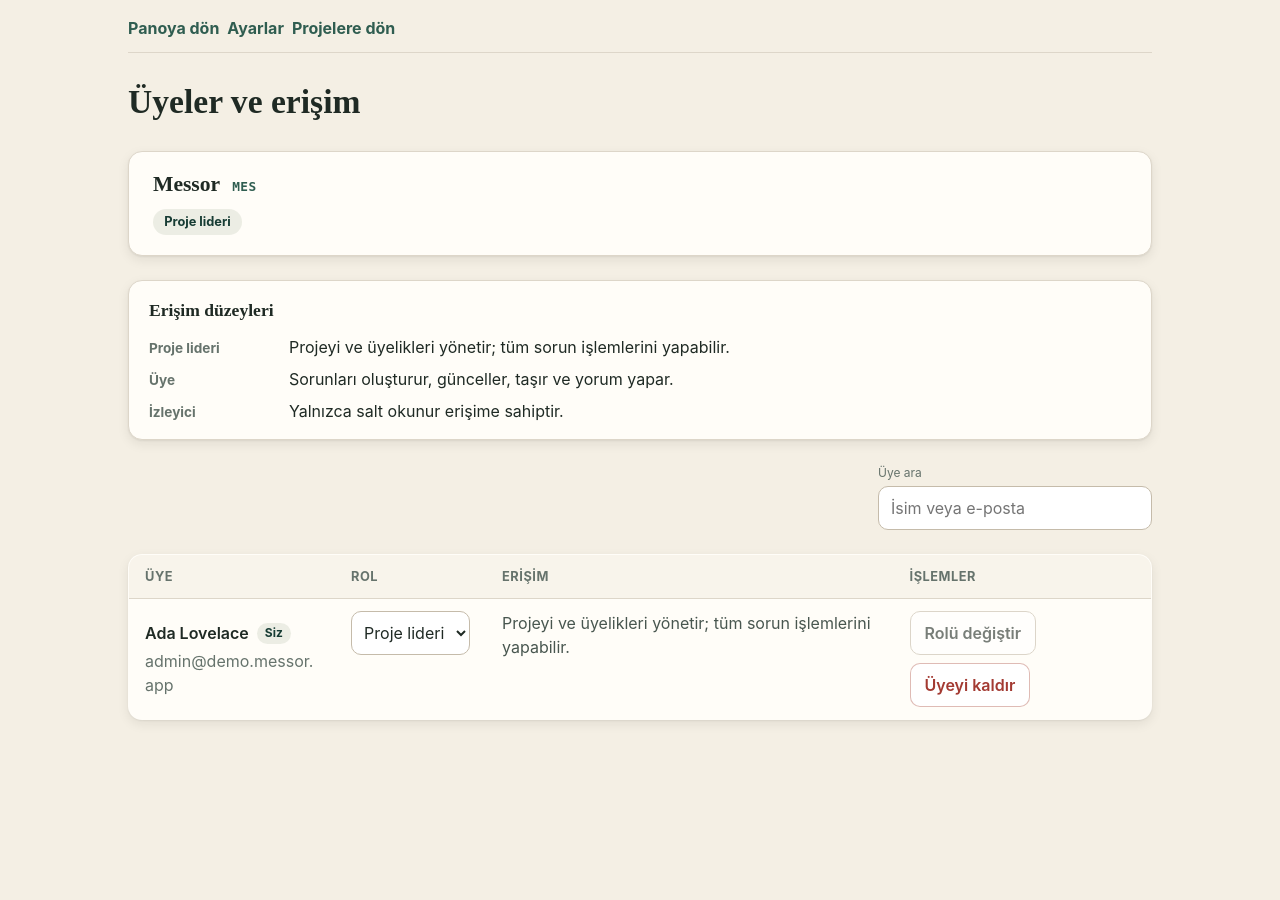
it: MembersPage › role change › shows a client-owned message for LAST_PROJECT_LEAD_REQUIRED
Expected: the table named "Proje üyeleri" is shown, [128,554,1152,720]
Step 1. Select "Üye" in the dropdown named "Ada Lovelace rolü" → (411, 633), box [351,611,470,655]
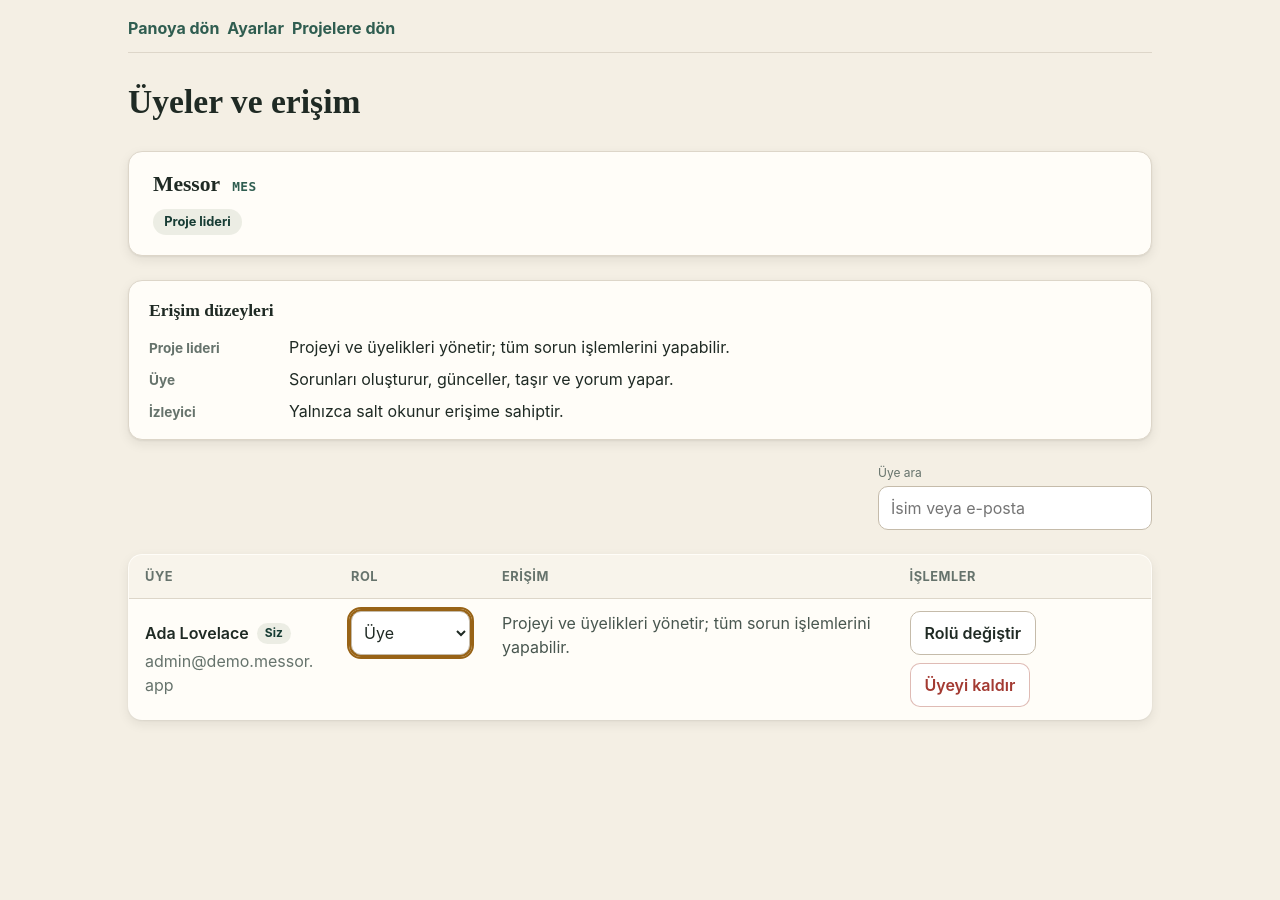
Step 2. Click the button with aria-label "Ada Lovelace rolünü değiştir" → (973, 633), box [910,611,1036,655]
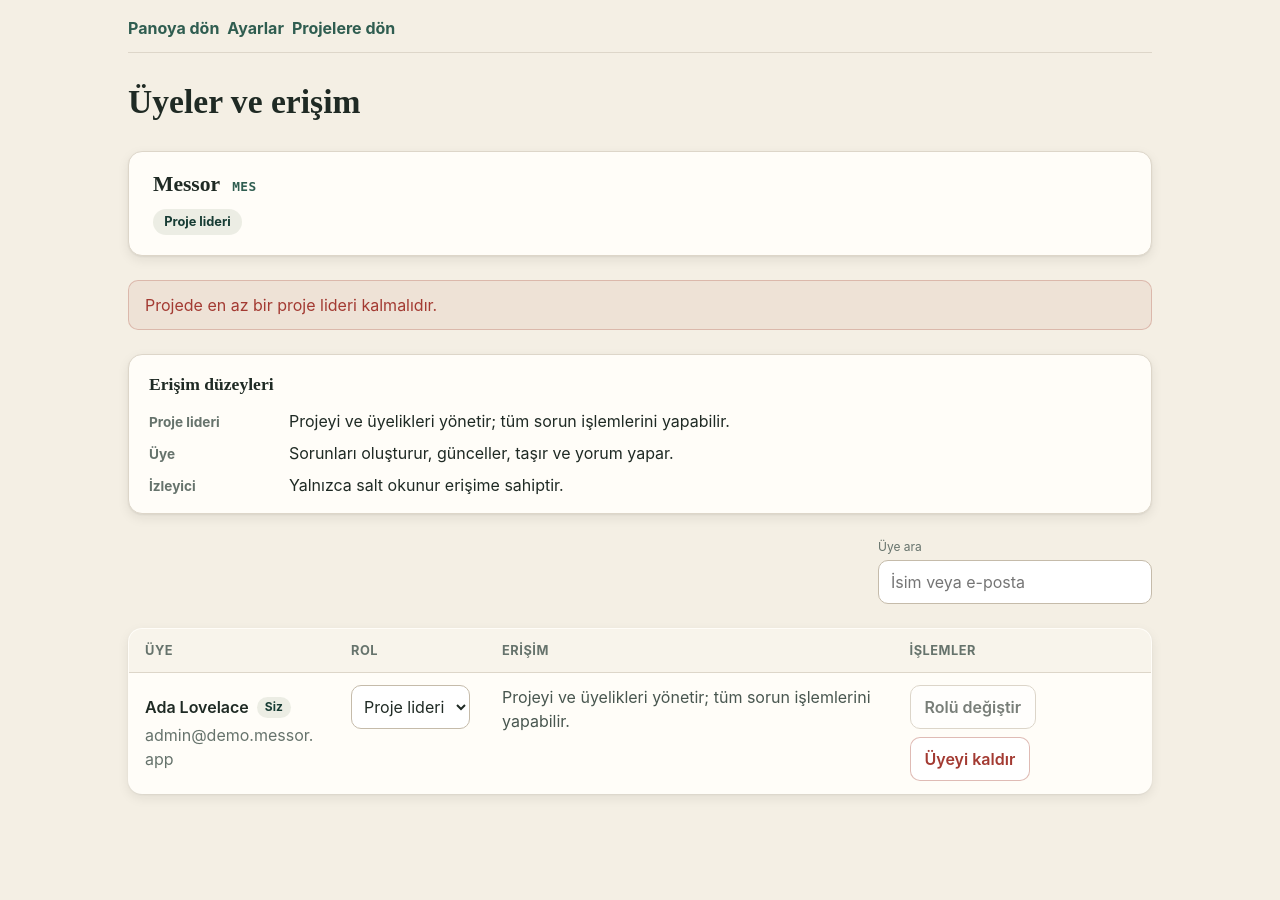
Expected: the message reads "Projede en az bir proje lideri kalmalıdır.", [145,295,437,315]
